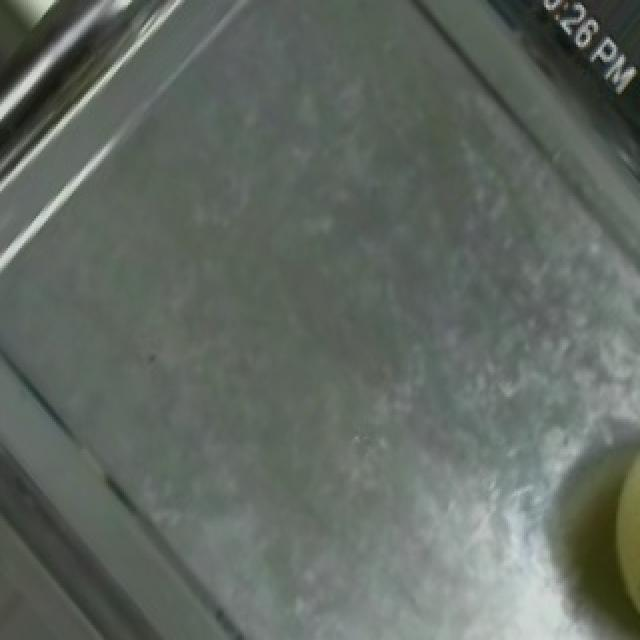Fruit: (582, 399, 640, 640)
